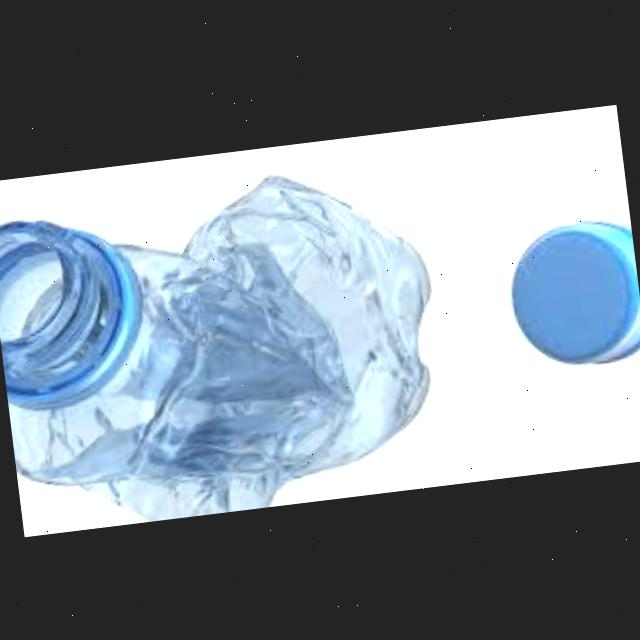trash: (0, 148, 460, 536)
